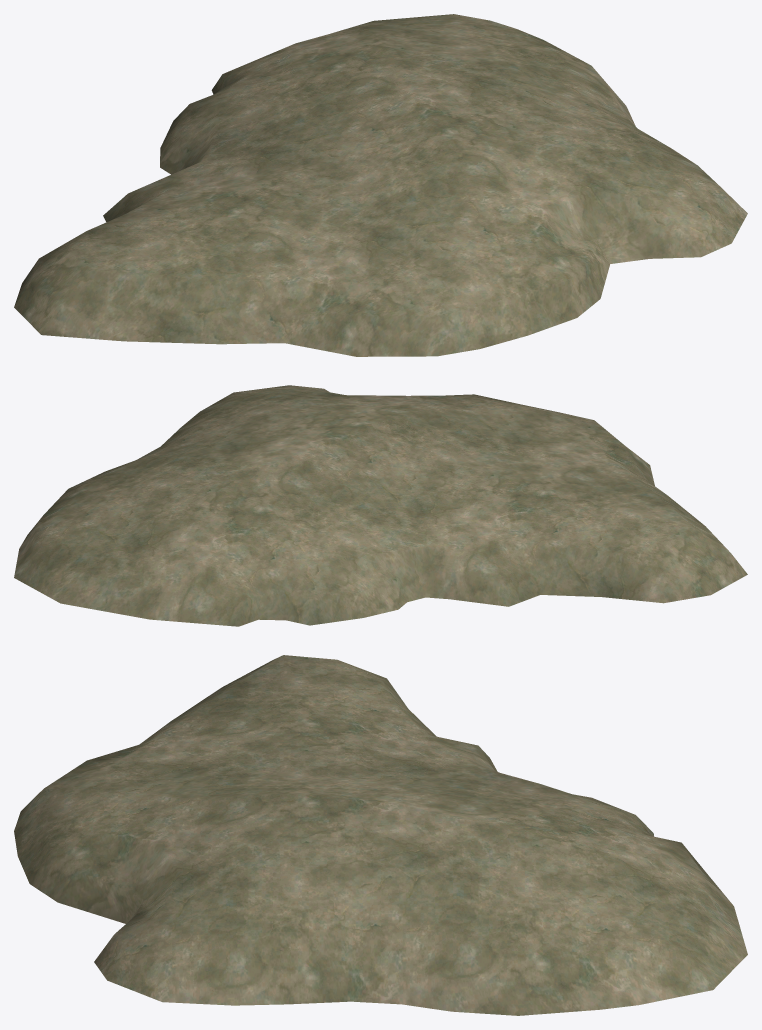
File: OVERHILL_A_01_ML_CAVE_ROOF_01.fbx
The picture shows the model from 3 angles, top to bottom: view 1: azimuth 30°, elevation 25°; view 2: azimuth 150°, elevation 25°; view 3: azimuth 270°, elevation 25°; orthographic projection. The views are drawn at different scales.
Visible parts, largest first — view 1: OVERHILL_A_01_ML_CAVE_ROOF_01; view 2: OVERHILL_A_01_ML_CAVE_ROOF_01; view 3: OVERHILL_A_01_ML_CAVE_ROOF_01.
Part boxes in pixels (bbox=[...]): OVERHILL_A_01_ML_CAVE_ROOF_01: bbox=[14, 14, 747, 356]; OVERHILL_A_01_ML_CAVE_ROOF_01: bbox=[14, 385, 747, 626]; OVERHILL_A_01_ML_CAVE_ROOF_01: bbox=[14, 655, 747, 1015].
Bounding box in the file's own units: 138494 × 16756 × 125319.
1 material, 1 textured.
